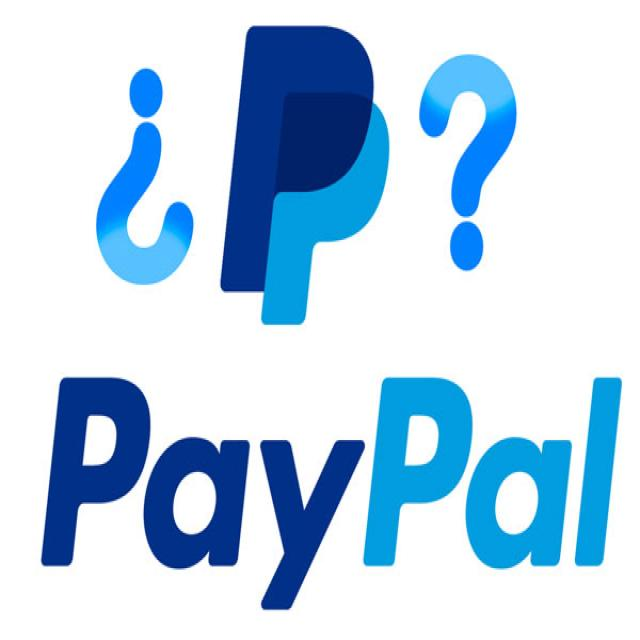paypal: (221, 24, 389, 326)
paypal_txt: (39, 374, 623, 612)
